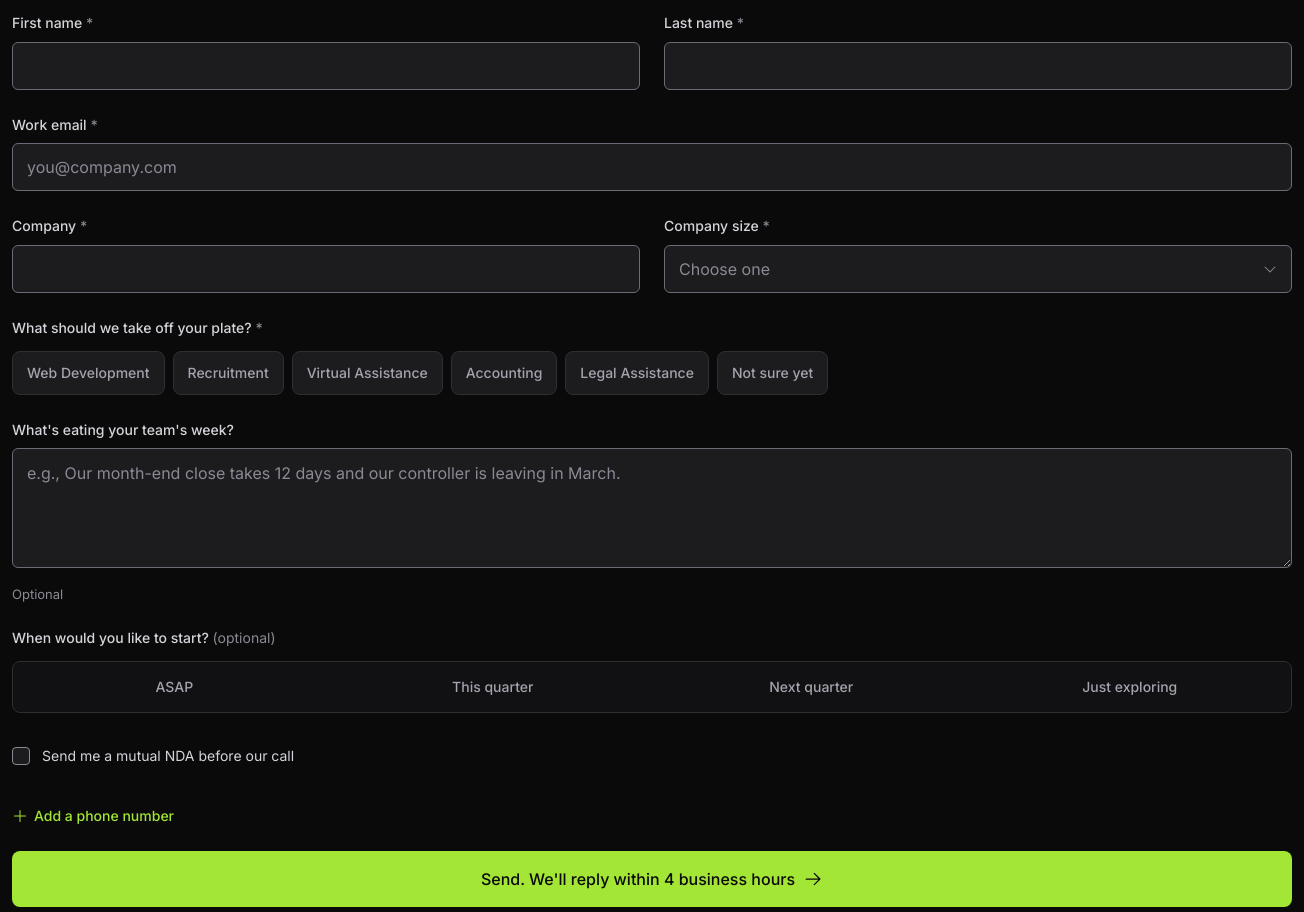
Test case: <ContactForm /> › shows server-side field errors
The image size is (1304, 912).
Type "Dana" into the field labelled "First name *" at [326, 66], box top-left (12, 42), bottom-right (640, 90)
Type "Whitfield" into the field labelled "Last name *" at [978, 66], box top-left (664, 42), bottom-right (1292, 90)
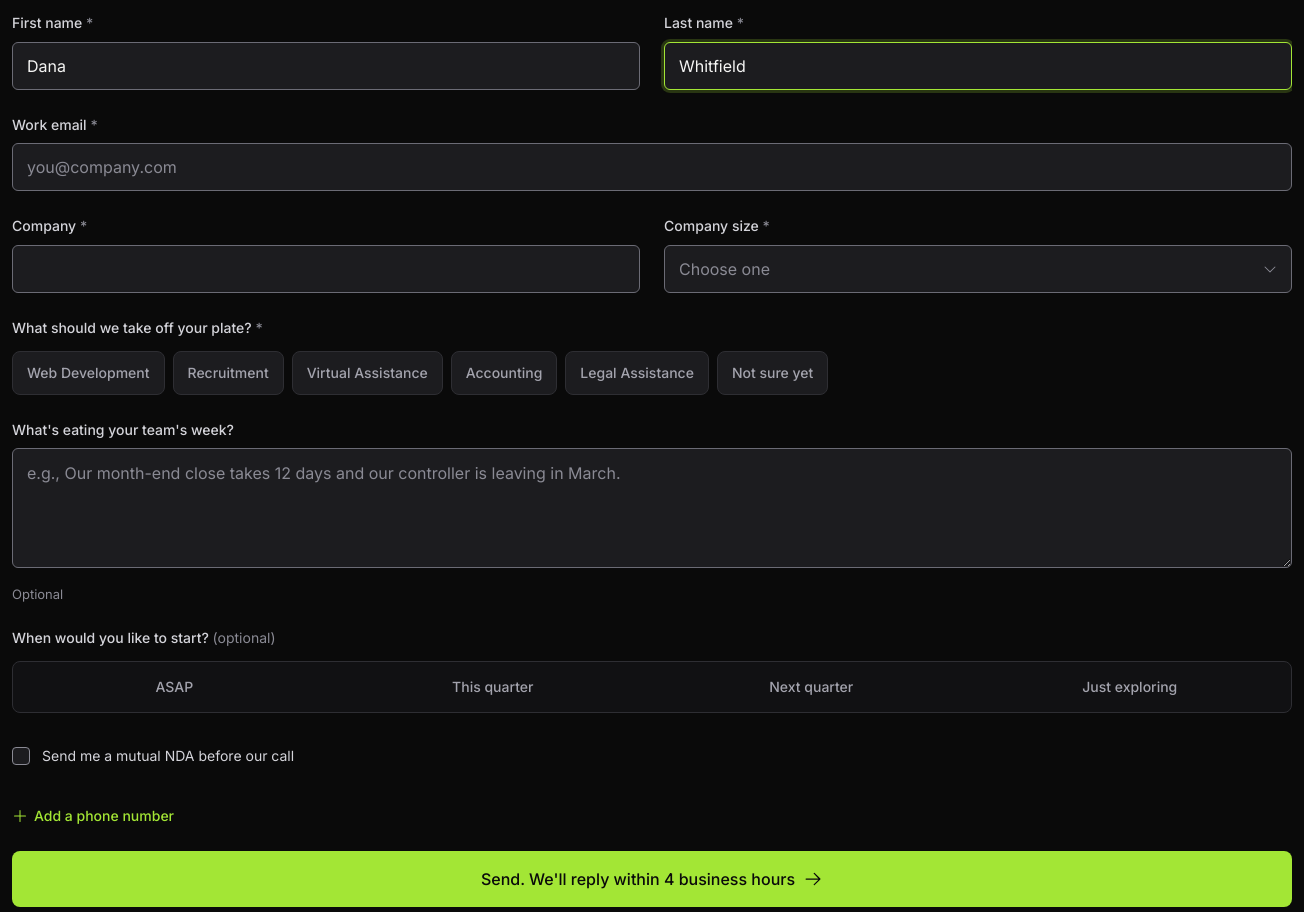
Type "dana@tidemark.example" into the field labelled "Work email *" at [652, 167], box top-left (12, 143), bottom-right (1292, 191)
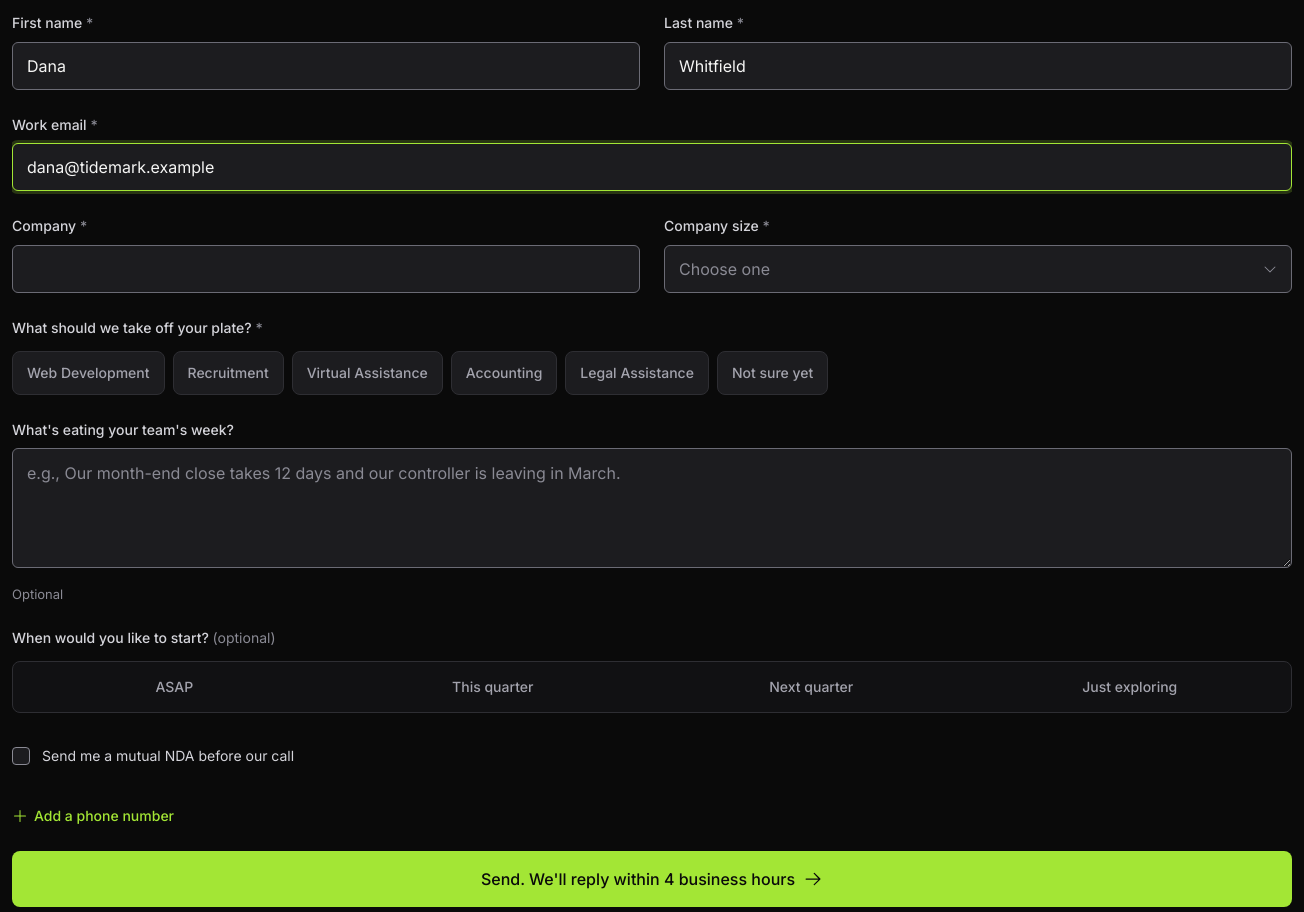
Type "Tidemark" into the field labelled "Company *" at [326, 269], box top-left (12, 245), bottom-right (640, 293)
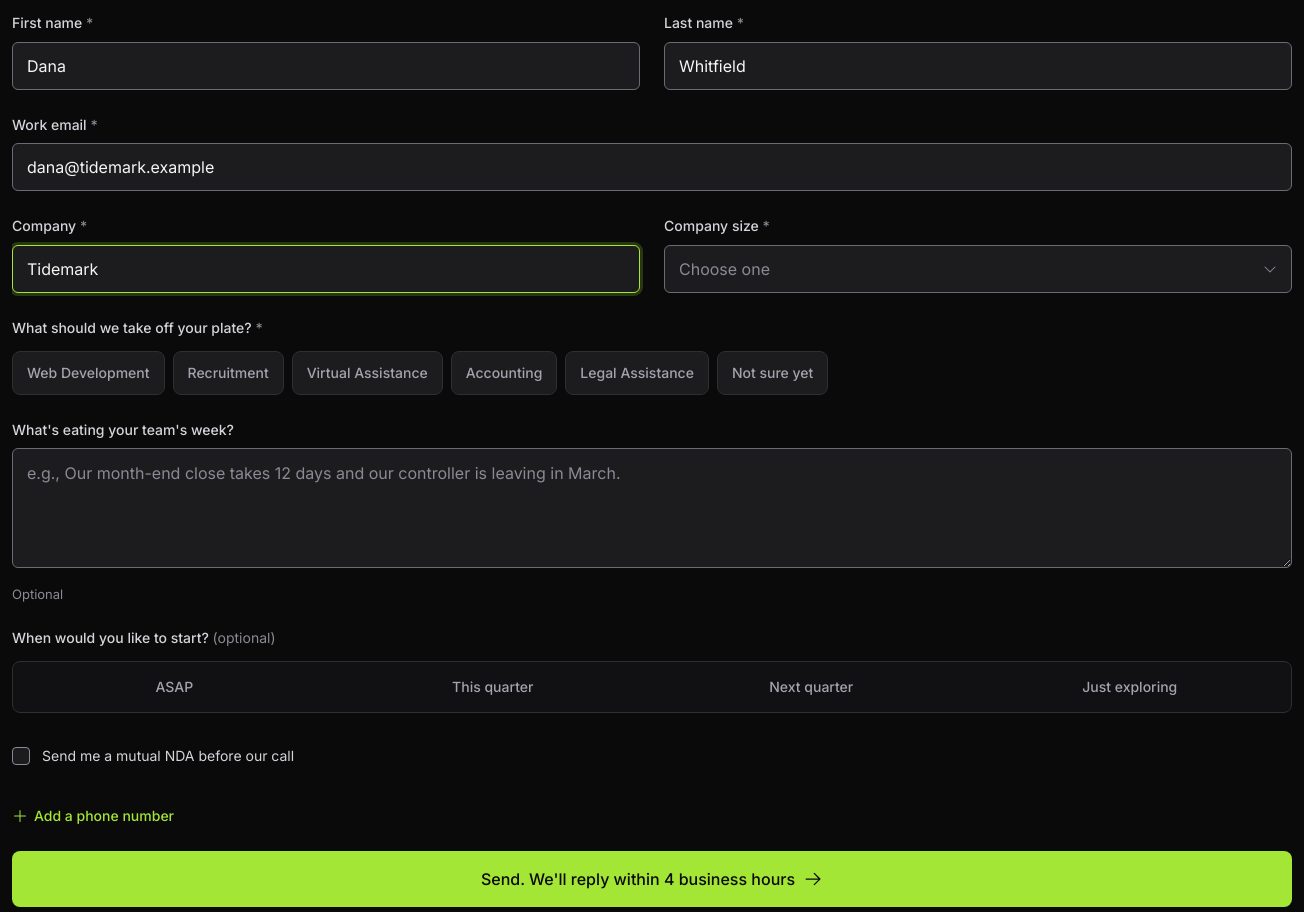
Select "200–499 people" in the dropdown labelled "Company size *" at [978, 269], box top-left (664, 245), bottom-right (1292, 293)
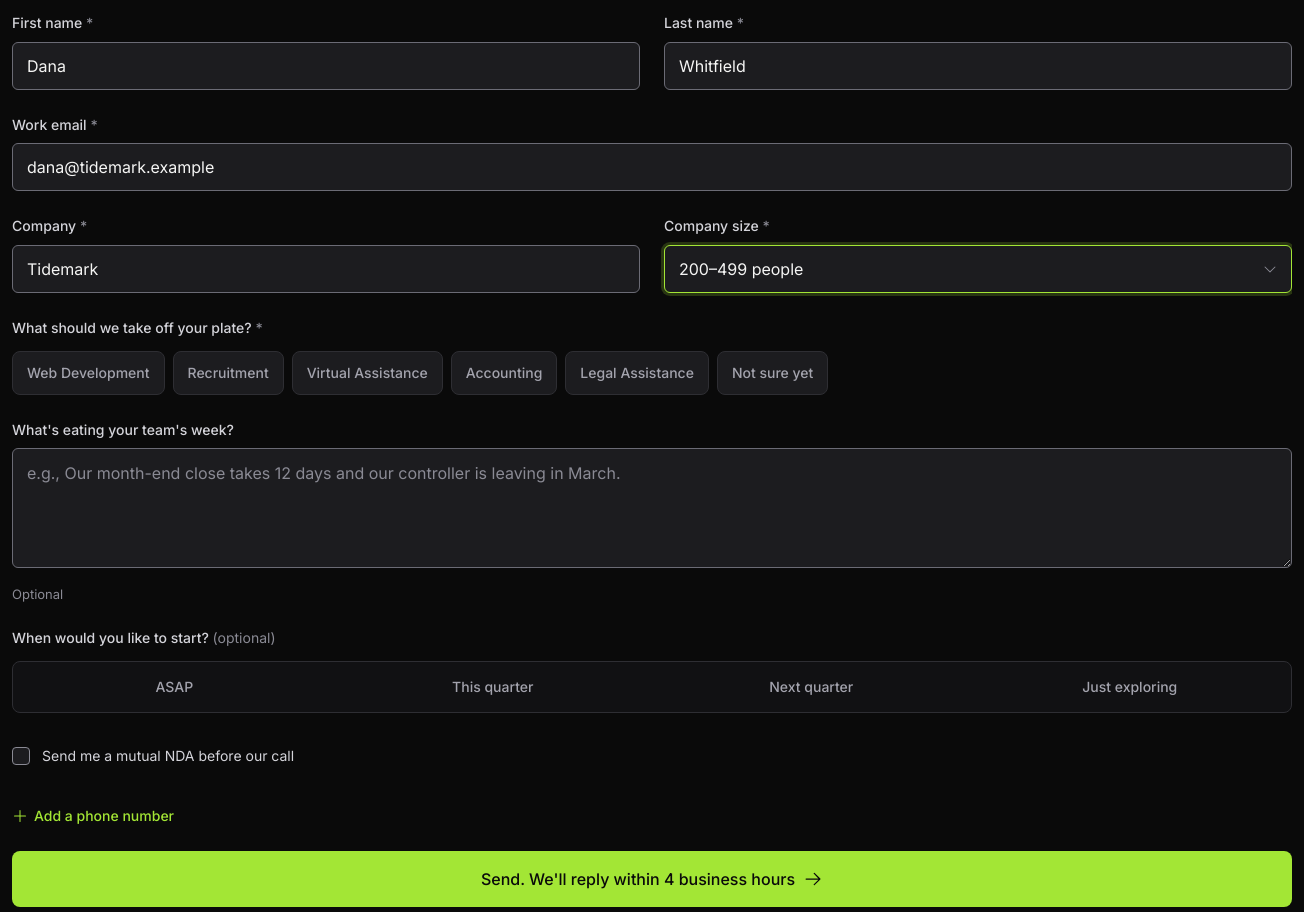
Click the checkbox labelled "Accounting" at [504, 373], box top-left (451, 351), bottom-right (557, 395)
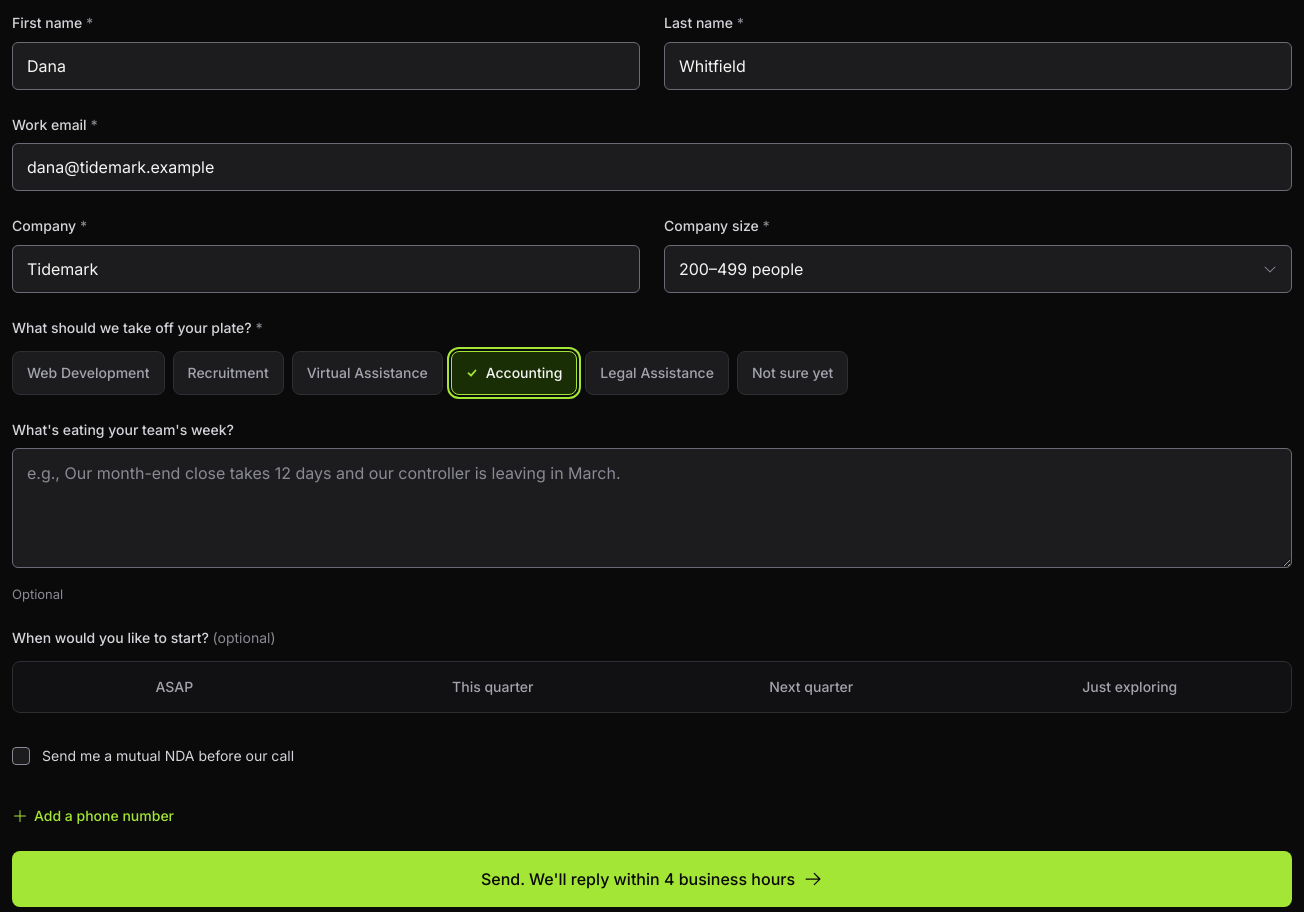
Click the button "Send. We'll reply within 4 business hours" at [652, 878], box top-left (12, 850), bottom-right (1292, 906)
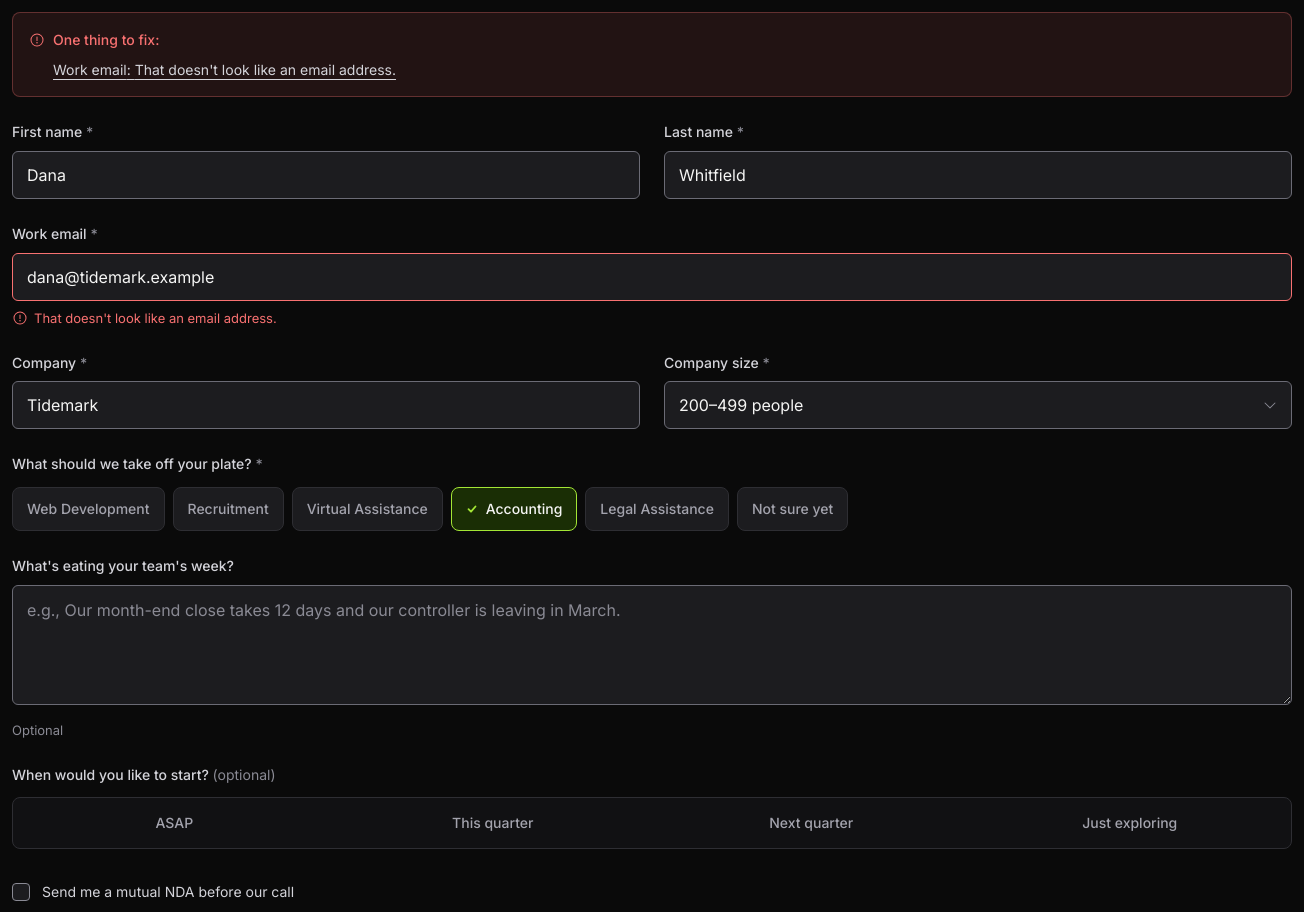
Now the message shows "Work email", box top-left (53, 61), bottom-right (396, 78)
